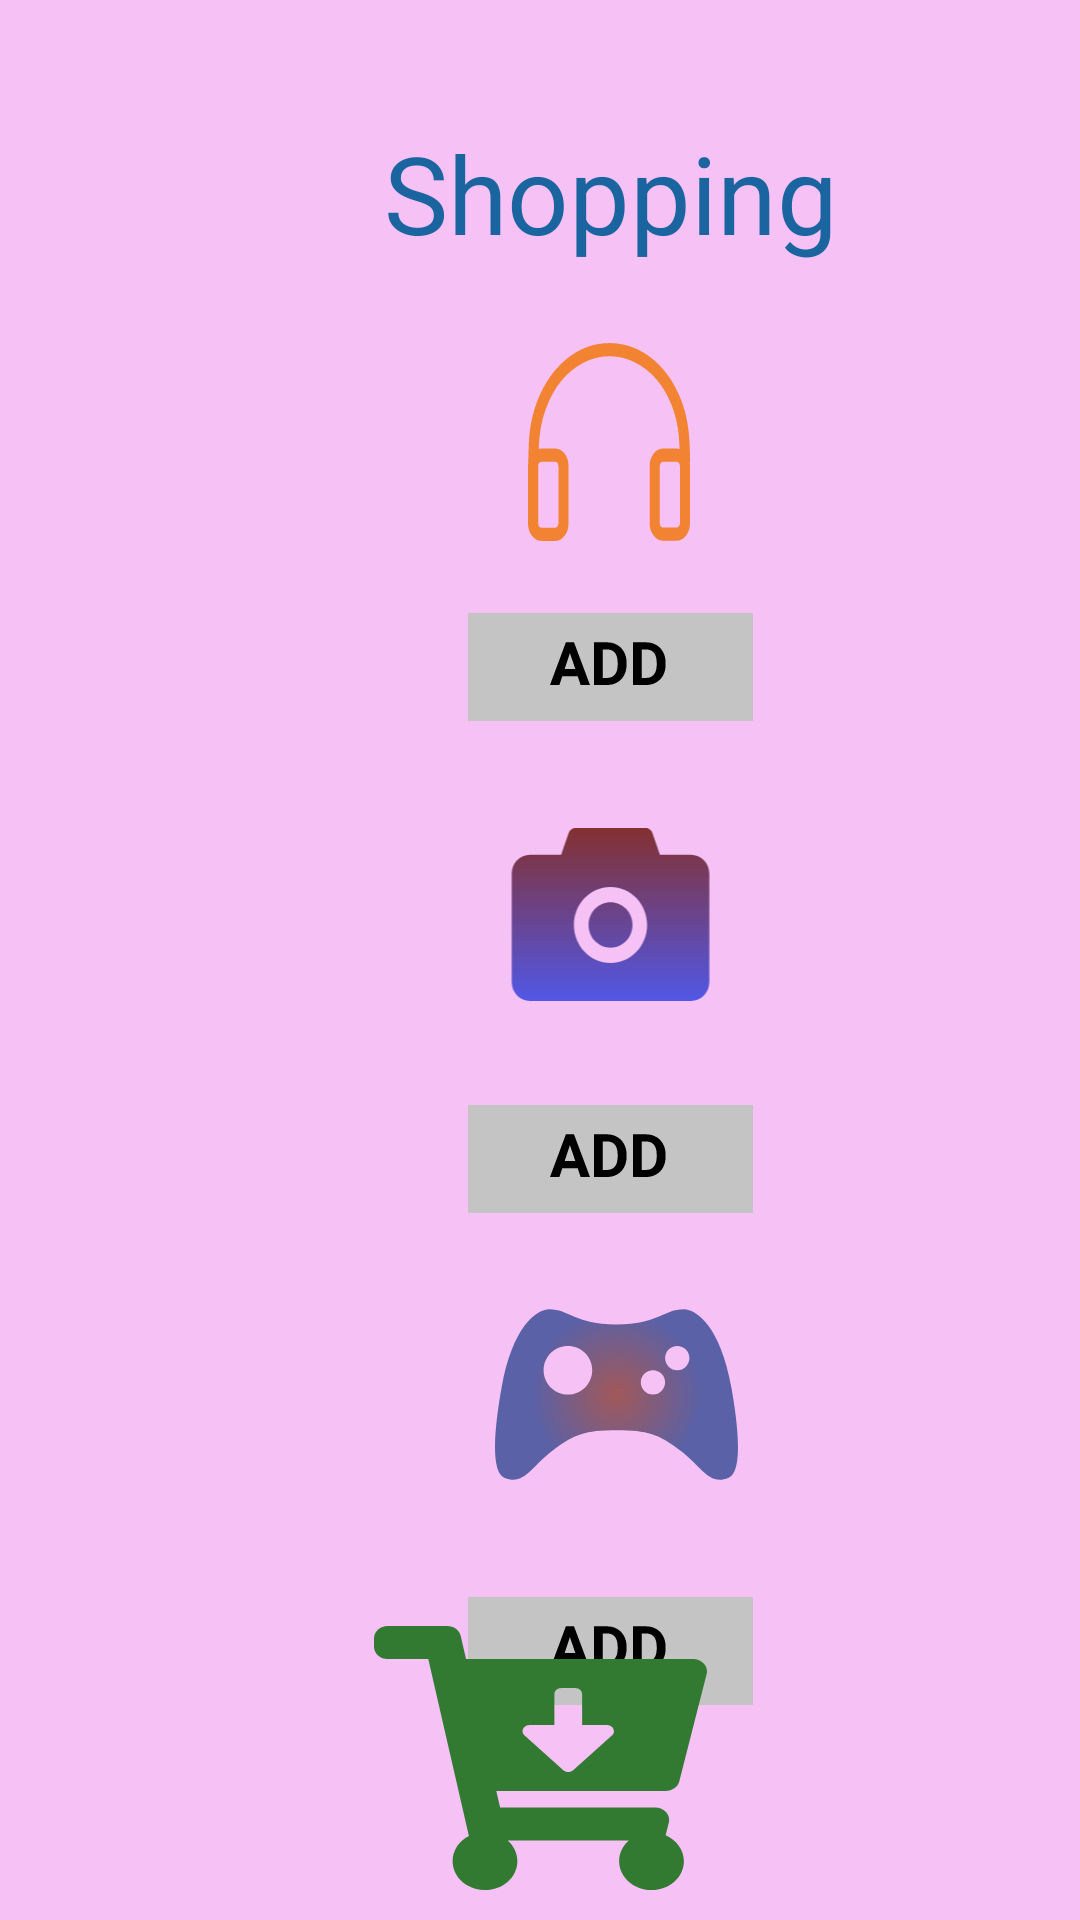

Where to tap for icons on this 1080w x 1920h app screen, as (x=x, y=y):
ant design camera: (x=610, y=914)
cart arrow down: (x=540, y=1758)
entypo game controller: (x=616, y=1394)
simple line earphones: (x=609, y=442)
